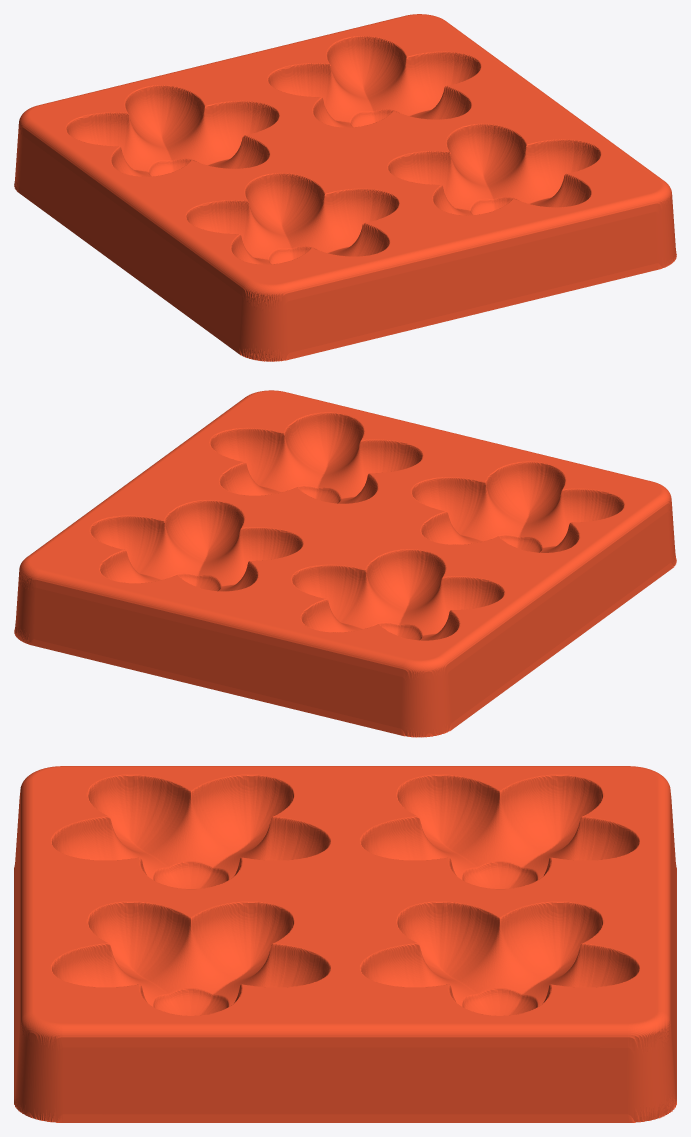
File: mold.glb
The picture shows the model from 3 angles, top to bottom: view 1: azimuth 30°, elevation 25°; view 2: azimuth 150°, elevation 25°; view 3: azimuth 270°, elevation 25°; orthographic projection. The views are drawn at different scales.
Parts seen in each view (by area): view 1: geometry_0; view 2: geometry_0; view 3: geometry_0.
Part boxes in pixels (<box>): geometry_0: <box>14,14,676,361</box>; geometry_0: <box>14,390,676,737</box>; geometry_0: <box>14,766,676,1122</box>.
Size of the model in its own units: 0.1185 by 0.0185 by 0.1218.
